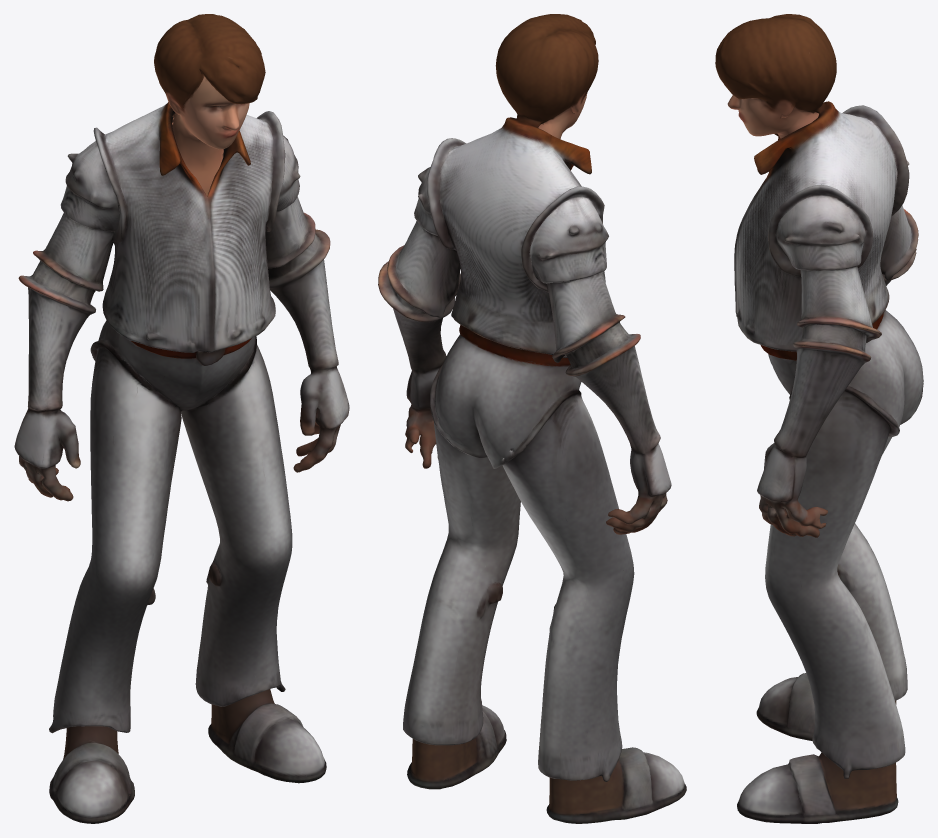
Rendered from knight_s22.glb.
3 renders of one model, left to right at view 1: azimuth 30°, elevation 25°; view 2: azimuth 150°, elevation 25°; view 3: azimuth 270°, elevation 25°, orthographic. The views are drawn at different scales.
Parts seen in each view (by area): view 1: geometry_0; view 2: geometry_0; view 3: geometry_0.
Part boxes in pixels (x1,y1,x2,y2): geometry_0: (14, 14, 349, 823); geometry_0: (378, 14, 686, 823); geometry_0: (715, 14, 923, 823).
Bounding box in the file's own units: 0.4075 × 1 × 0.2513.
1 material, 1 textured.
